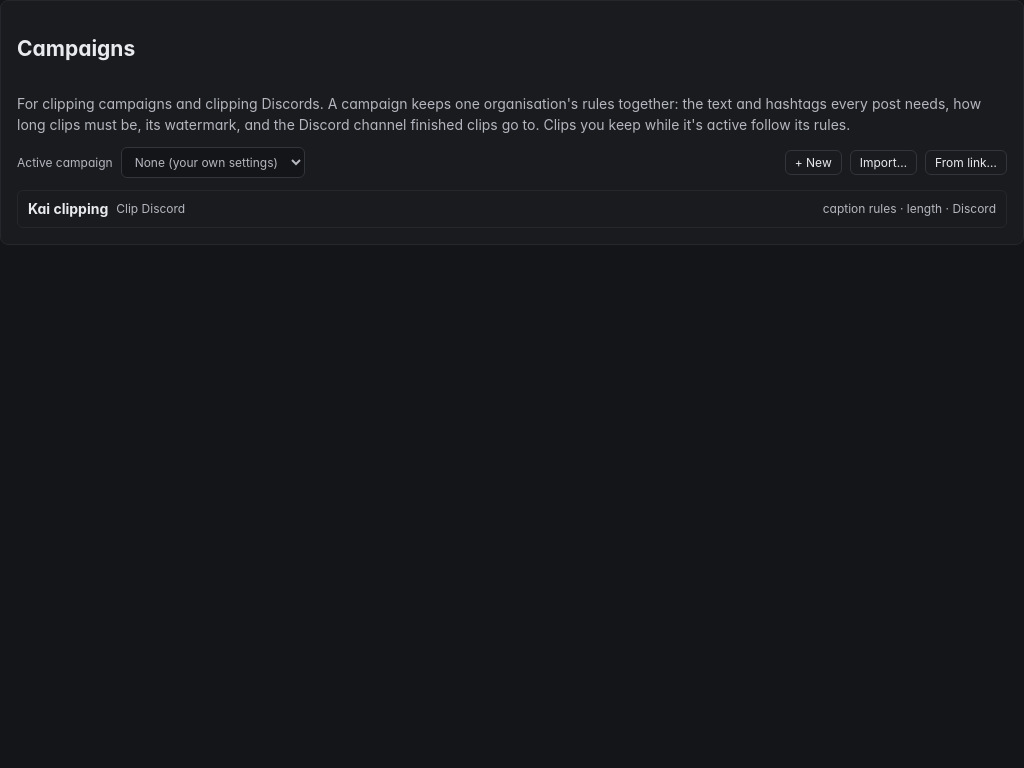
Test: Campaigns › chooses the active campaign, and asks before deleting one
Later steps or results of the test are not shown.
Select "Kai clipping" in the dropdown labelled "Active campaign": {"x": 213, "y": 162} [121,147,305,178]
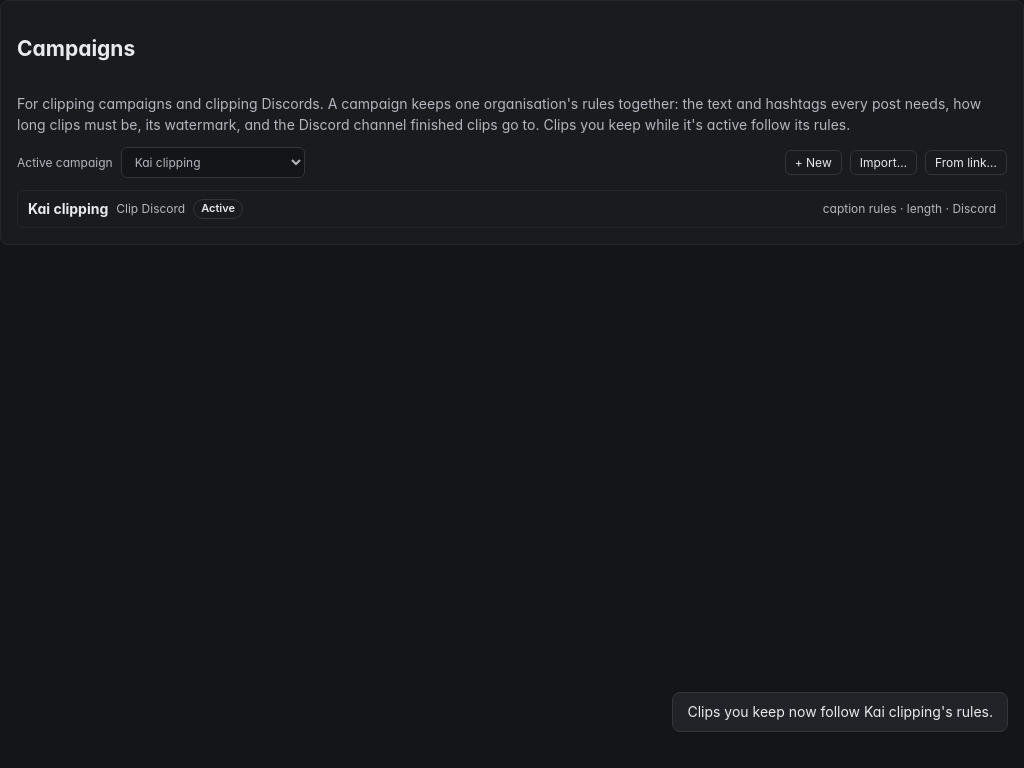
Result: the text "Active" is shown at [193,199,243,219]
